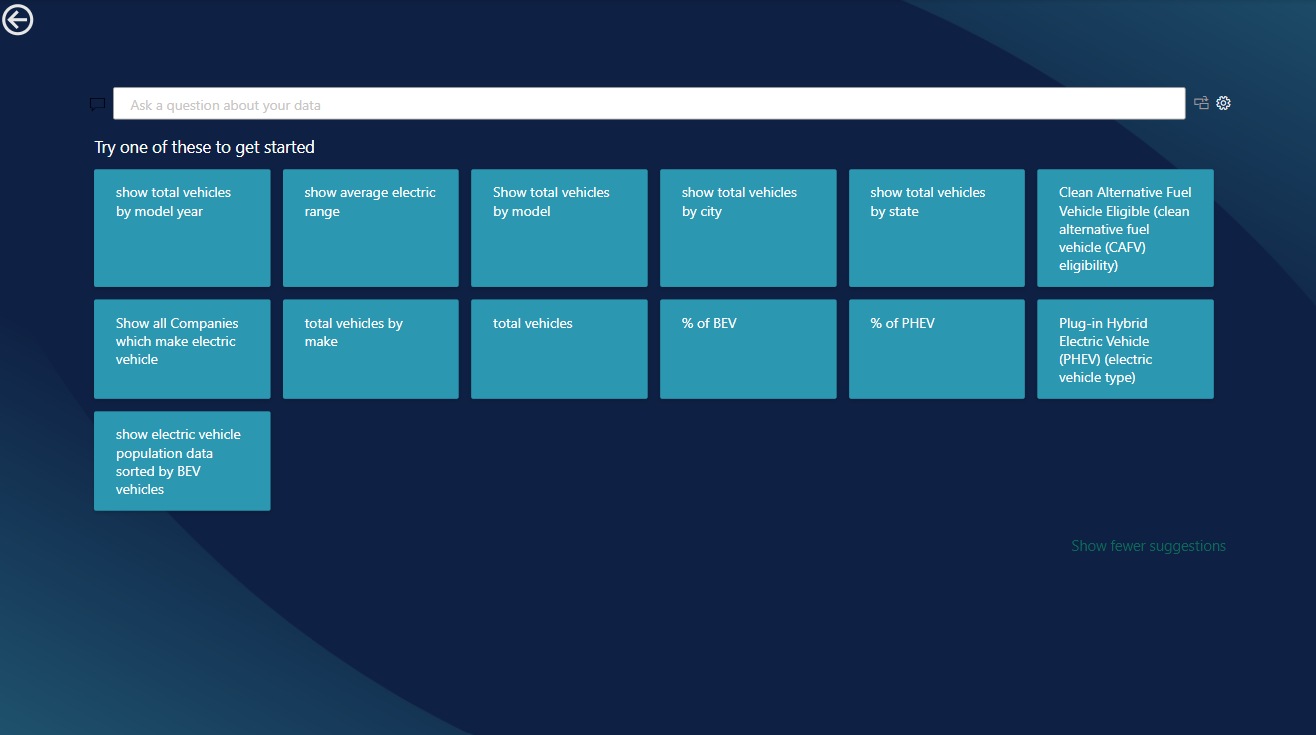

The dashboard page shown, as its layout file describes it:
{"tool":"powerbi","page":{"name":"Q&A","canvas":[1280,720],"ordinal":1},"visuals":[{"type":"qnaVisual","box":[80.8,60.3,1118.4,598.4],"z":0},{"type":"actionButton","box":[0,0,100,40],"z":1000}]}

Visuals, with their boxes in screenshot pixels (x1, y1, x2, y2), scaled from the page's 1280x720 canvas onto the 1316x735 screenshot:
qnaVisual: 83:62:1233:672
actionButton: 0:0:103:41
